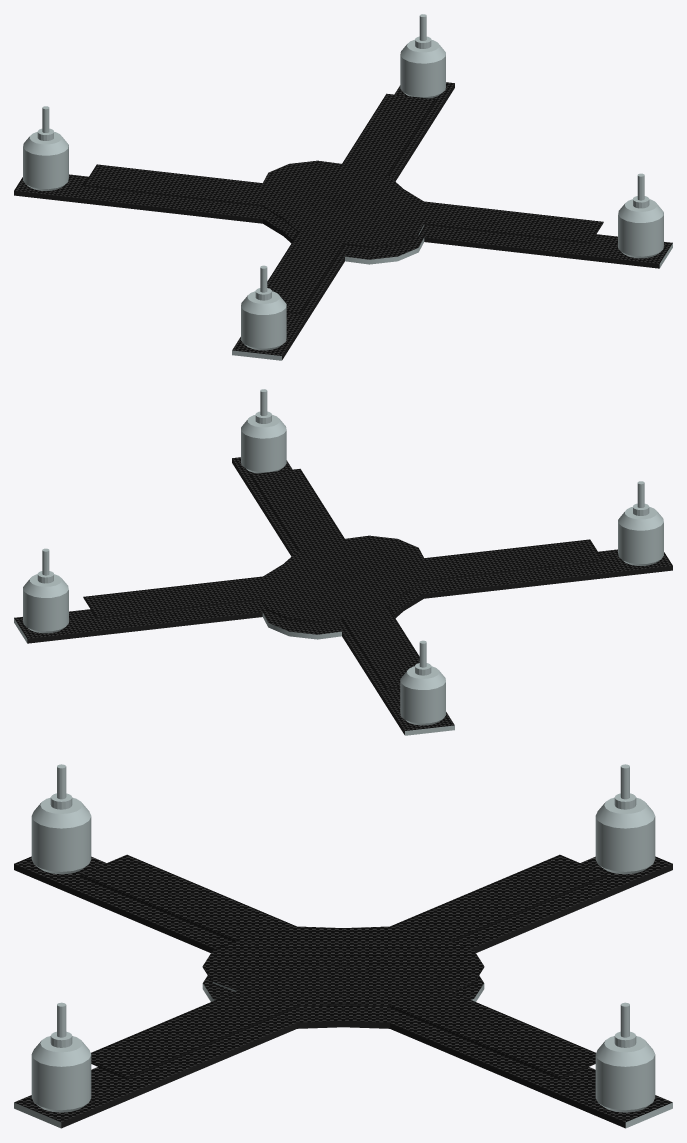
Rendered from quadcopter.fbx.
3 renders of one model, top to bottom at view 1: azimuth 30°, elevation 25°; view 2: azimuth 150°, elevation 25°; view 3: azimuth 270°, elevation 25°, orthographic. The views are drawn at different scales.
Visible parts, largest first — view 1: Plane002; view 2: Plane002; view 3: Plane002.
Boxes of the visible parts, box(x1,y1,x2,y2) form: Plane002: box(14, 14, 672, 360); Plane002: box(14, 389, 672, 735); Plane002: box(14, 764, 672, 1128).
Bounding box in the file's own units: 0.3857 × 0.067 × 0.3857.
